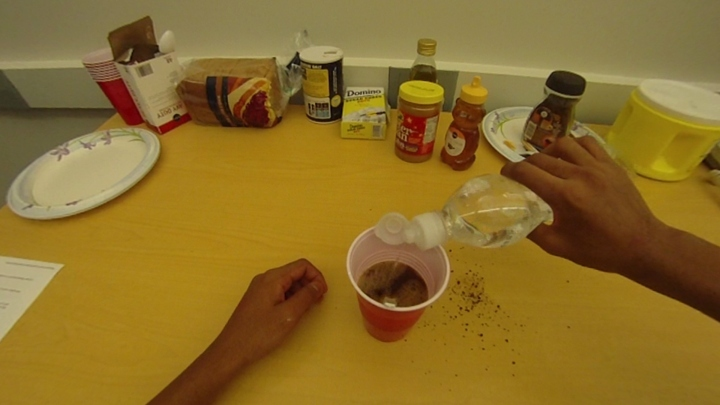hand: (496, 133, 657, 264), (233, 257, 337, 361)
